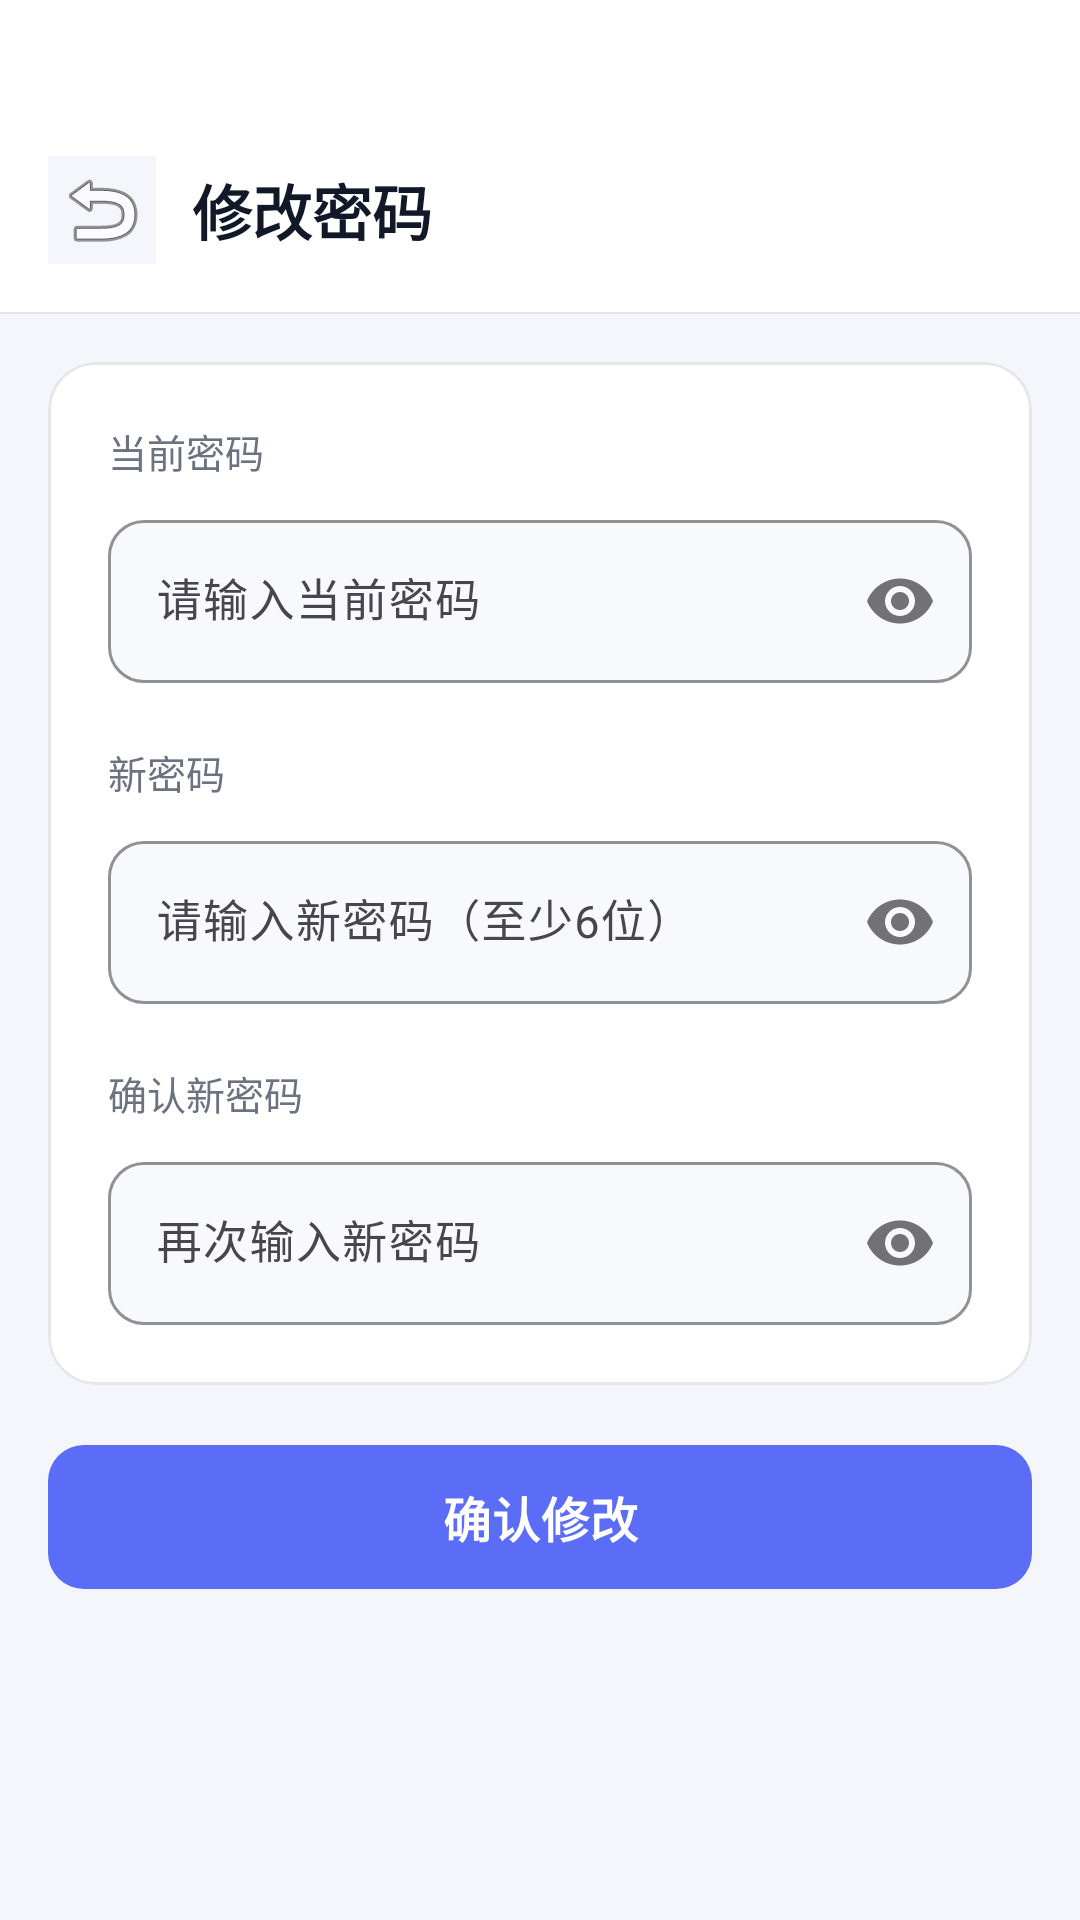

Locate icon controls on the screen. Image size 1080 × 1920, boxes as (x1, y1, x2, y2).
返回: (48, 156, 156, 264)
